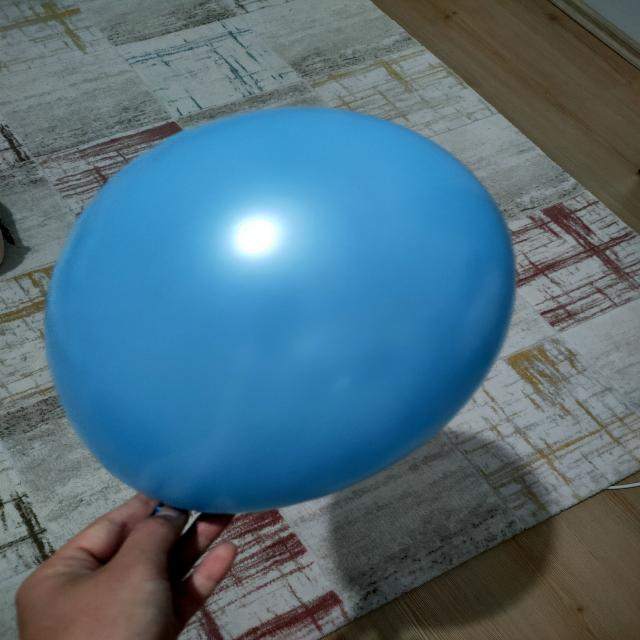blue: (49, 106, 516, 509)
